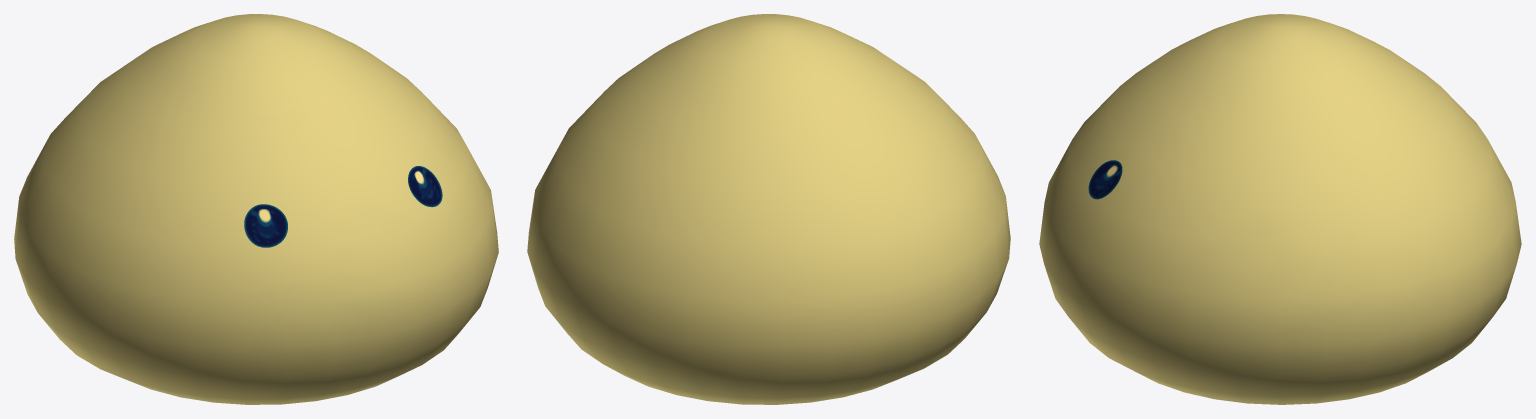
The model's file is slime_crown_body.gltf.
The picture shows the model from 3 angles, left to right: view 1: azimuth 30°, elevation 25°; view 2: azimuth 150°, elevation 25°; view 3: azimuth 270°, elevation 25°; orthographic projection.
Parts seen in each view (by area): view 1: Slime_Slime_0; view 2: Slime_Slime_0; view 3: Slime_Slime_0.
Boxes of the visible parts, x1,y1,x2,y2 form: Slime_Slime_0: (14, 14, 498, 404); Slime_Slime_0: (527, 14, 1010, 404); Slime_Slime_0: (1039, 14, 1521, 404).
Size of the model in its own units: 1.03 by 0.7421 by 1.03.
1 material, 1 textured.
